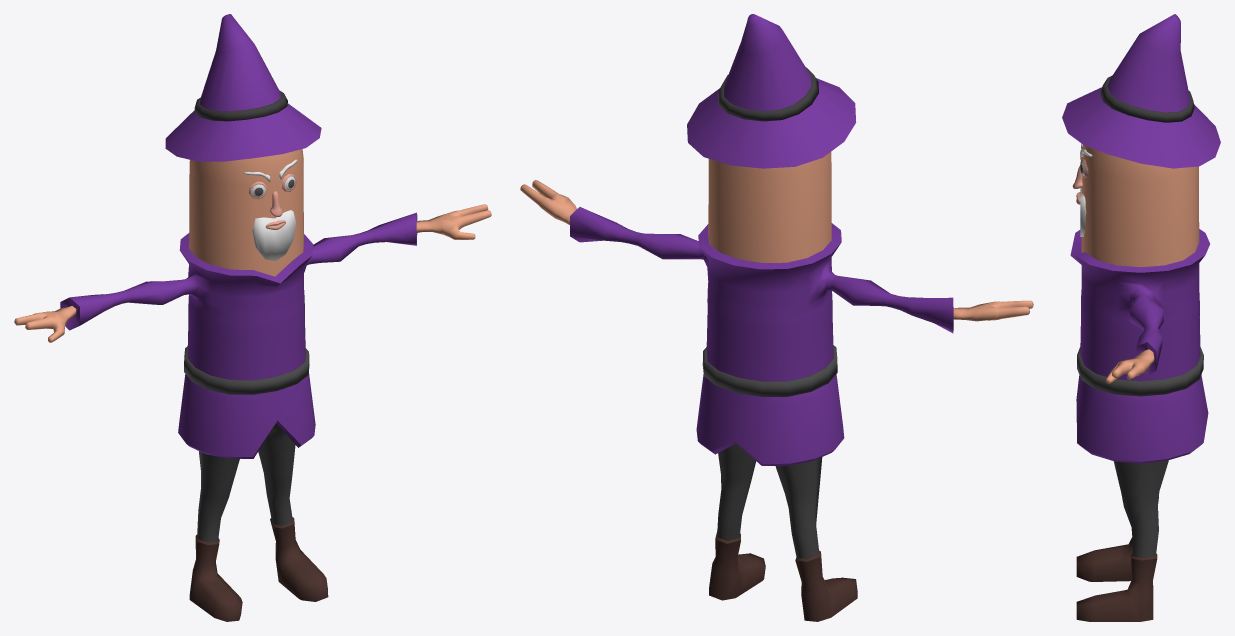
File: Witcher.fbx
3 views of the same model, side by side, from view 1: azimuth 30°, elevation 25°; view 2: azimuth 150°, elevation 25°; view 3: azimuth 270°, elevation 25° (orthographic). The views are drawn at different scales.
Parts seen in each view (by area): view 1: WitcherBody; view 2: WitcherBody; view 3: WitcherBody.
Part boxes in pixels (x1,y1,x2,y2): WitcherBody: (14, 14, 491, 621); WitcherBody: (520, 14, 1033, 621); WitcherBody: (1062, 14, 1220, 621).
Bounding box in the file's own units: 125 × 142 × 35.15.
